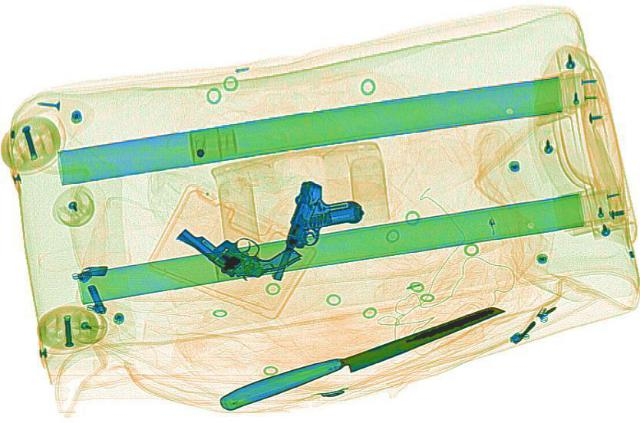Gun: (264, 178, 370, 285), (168, 203, 304, 286)
Knife: (210, 297, 510, 412)
